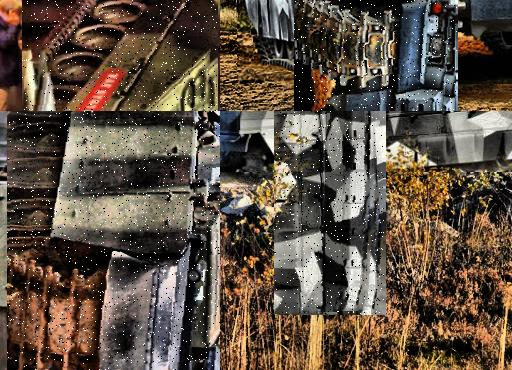tanks: (8, 112, 221, 370), (276, 112, 383, 315), (24, 1, 217, 112), (296, 1, 454, 112)
